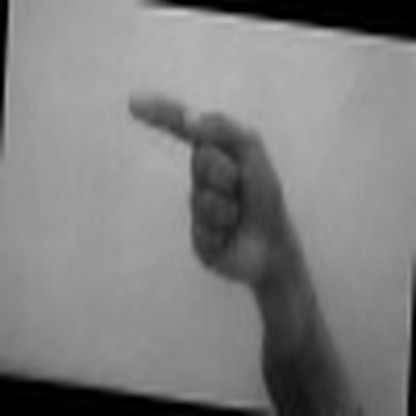g: (109, 83, 289, 280)
